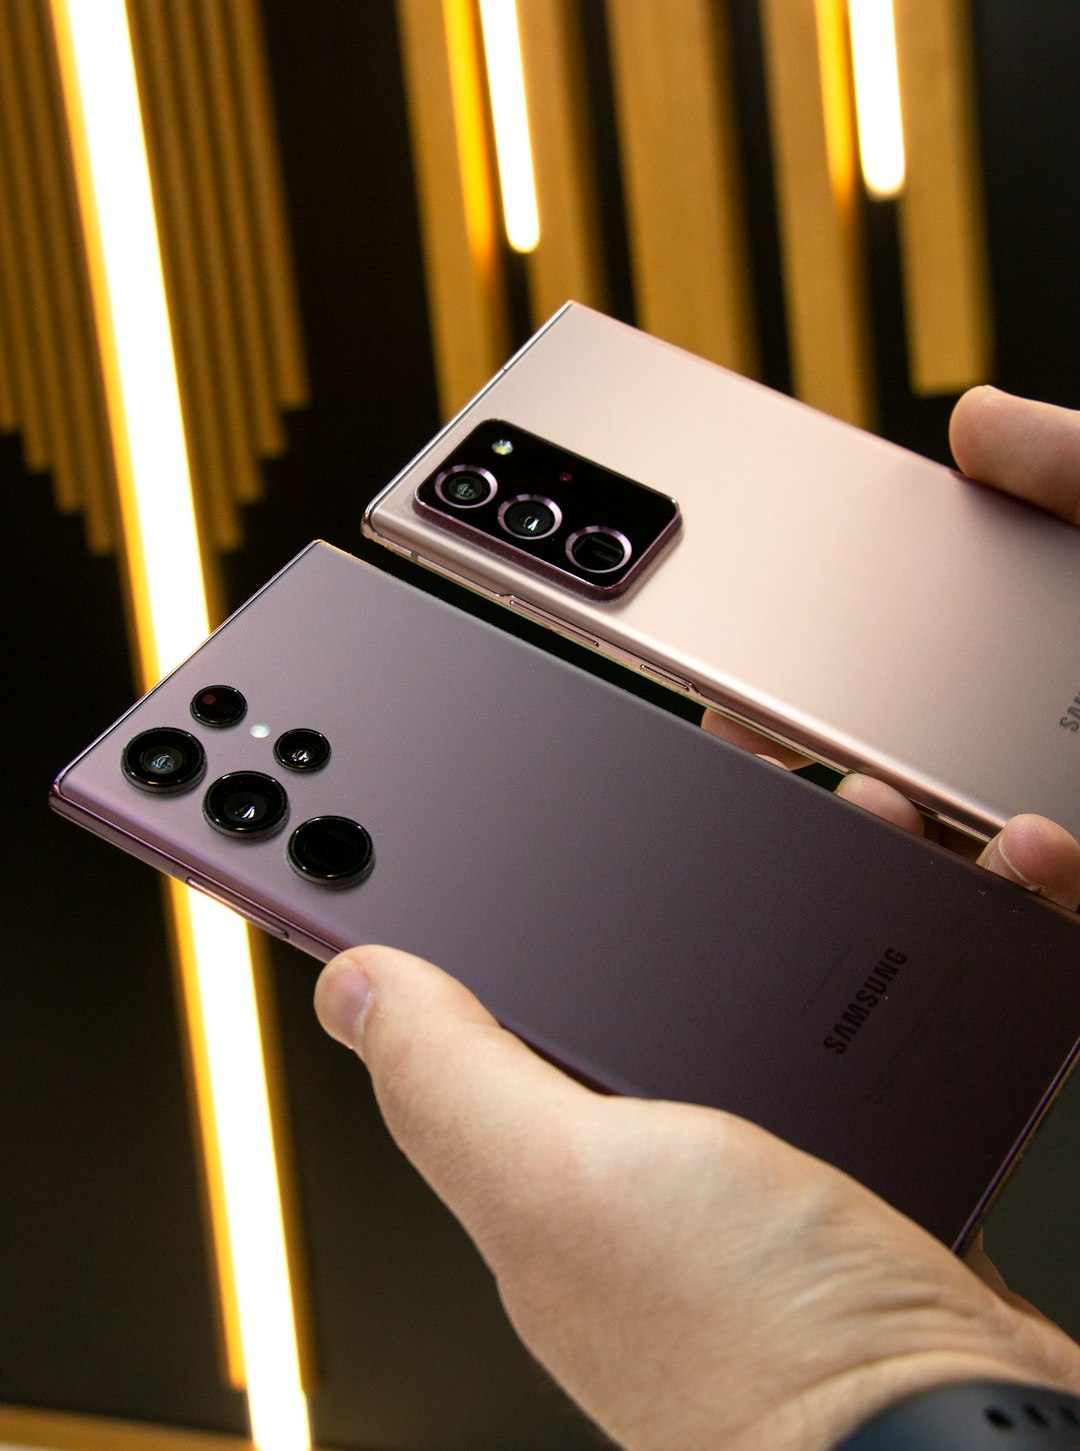phone: (47, 528, 1080, 1282), (356, 293, 1080, 887)
